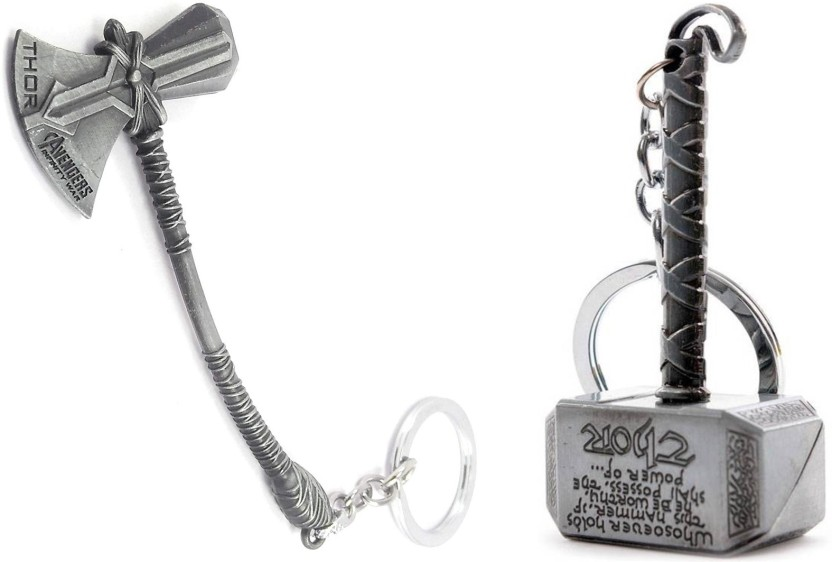THOR Hammer: (428, 13, 827, 545), (8, 11, 347, 543)
